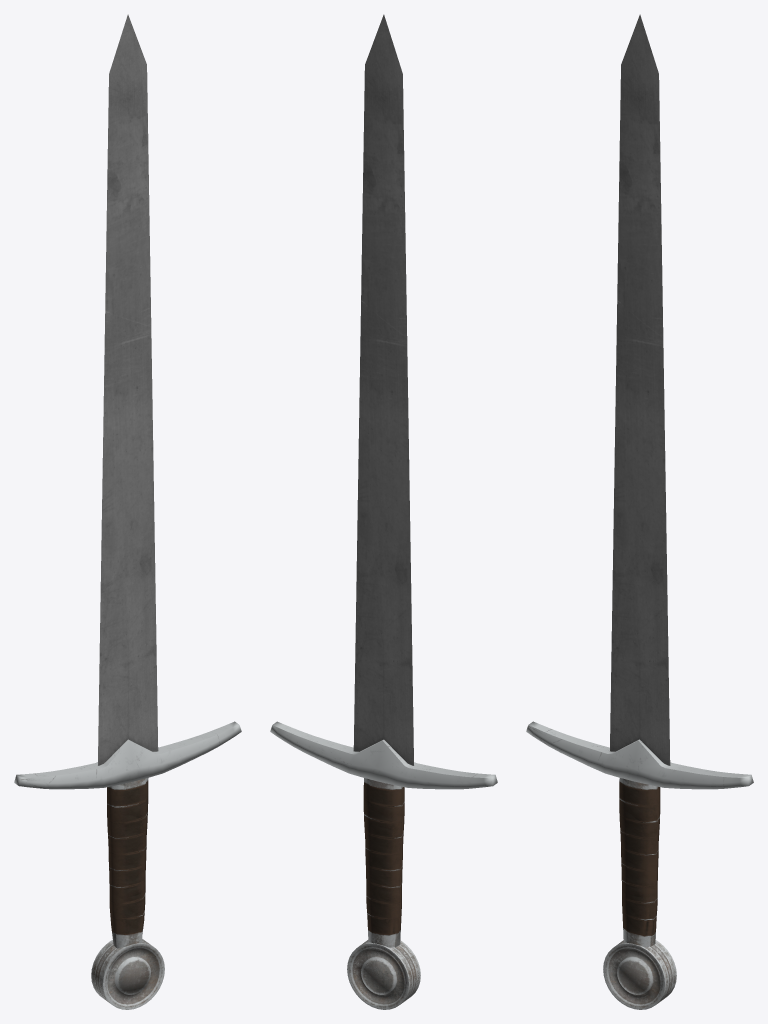
The model's file is OneHandedSword.glb.
3 renders of one model, left to right at view 1: azimuth 30°, elevation 25°; view 2: azimuth 150°, elevation 25°; view 3: azimuth 330°, elevation 25°, orthographic.
Visible parts, largest first — view 1: node_Sword_One_Handed.01_V01_-11484; view 2: node_Sword_One_Handed.01_V01_-11484; view 3: node_Sword_One_Handed.01_V01_-11484.
Boxes of the visible parts, x1,y1,x2,y2 form: node_Sword_One_Handed.01_V01_-11484: [14, 14, 241, 1009]; node_Sword_One_Handed.01_V01_-11484: [270, 14, 497, 1009]; node_Sword_One_Handed.01_V01_-11484: [526, 14, 753, 1009].
Bounding box in the file's own units: 0.2315 × 0.9824 × 0.0238.
1 material, 1 textured.
